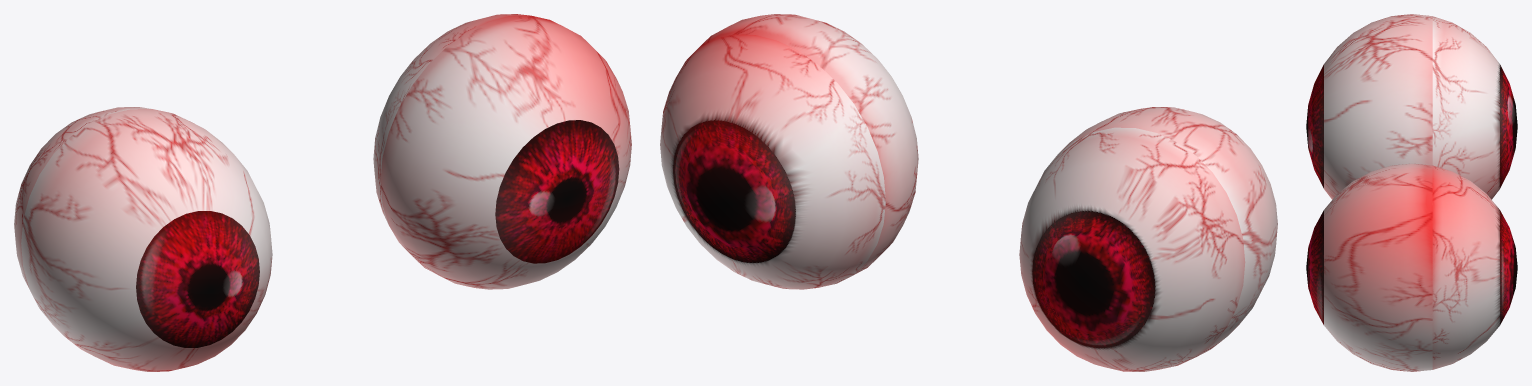
File: Angry_Eye.fbx
3 renders of one model, left to right at view 1: azimuth 30°, elevation 25°; view 2: azimuth 150°, elevation 25°; view 3: azimuth 270°, elevation 25°, orthographic. The views are drawn at different scales.
Parts seen in each view (by area): view 1: Angry_Eye_Melee; view 2: Angry_Eye_Melee; view 3: Angry_Eye_Melee.
Boxes of the visible parts, left/top/right/bottom form: Angry_Eye_Melee: left=14, top=14, right=631, bottom=371; Angry_Eye_Melee: left=660, top=14, right=1277, bottom=371; Angry_Eye_Melee: left=1306, top=14, right=1517, bottom=371.
Bounding box in the file's own units: 74.36 × 30.1 × 29.07.
